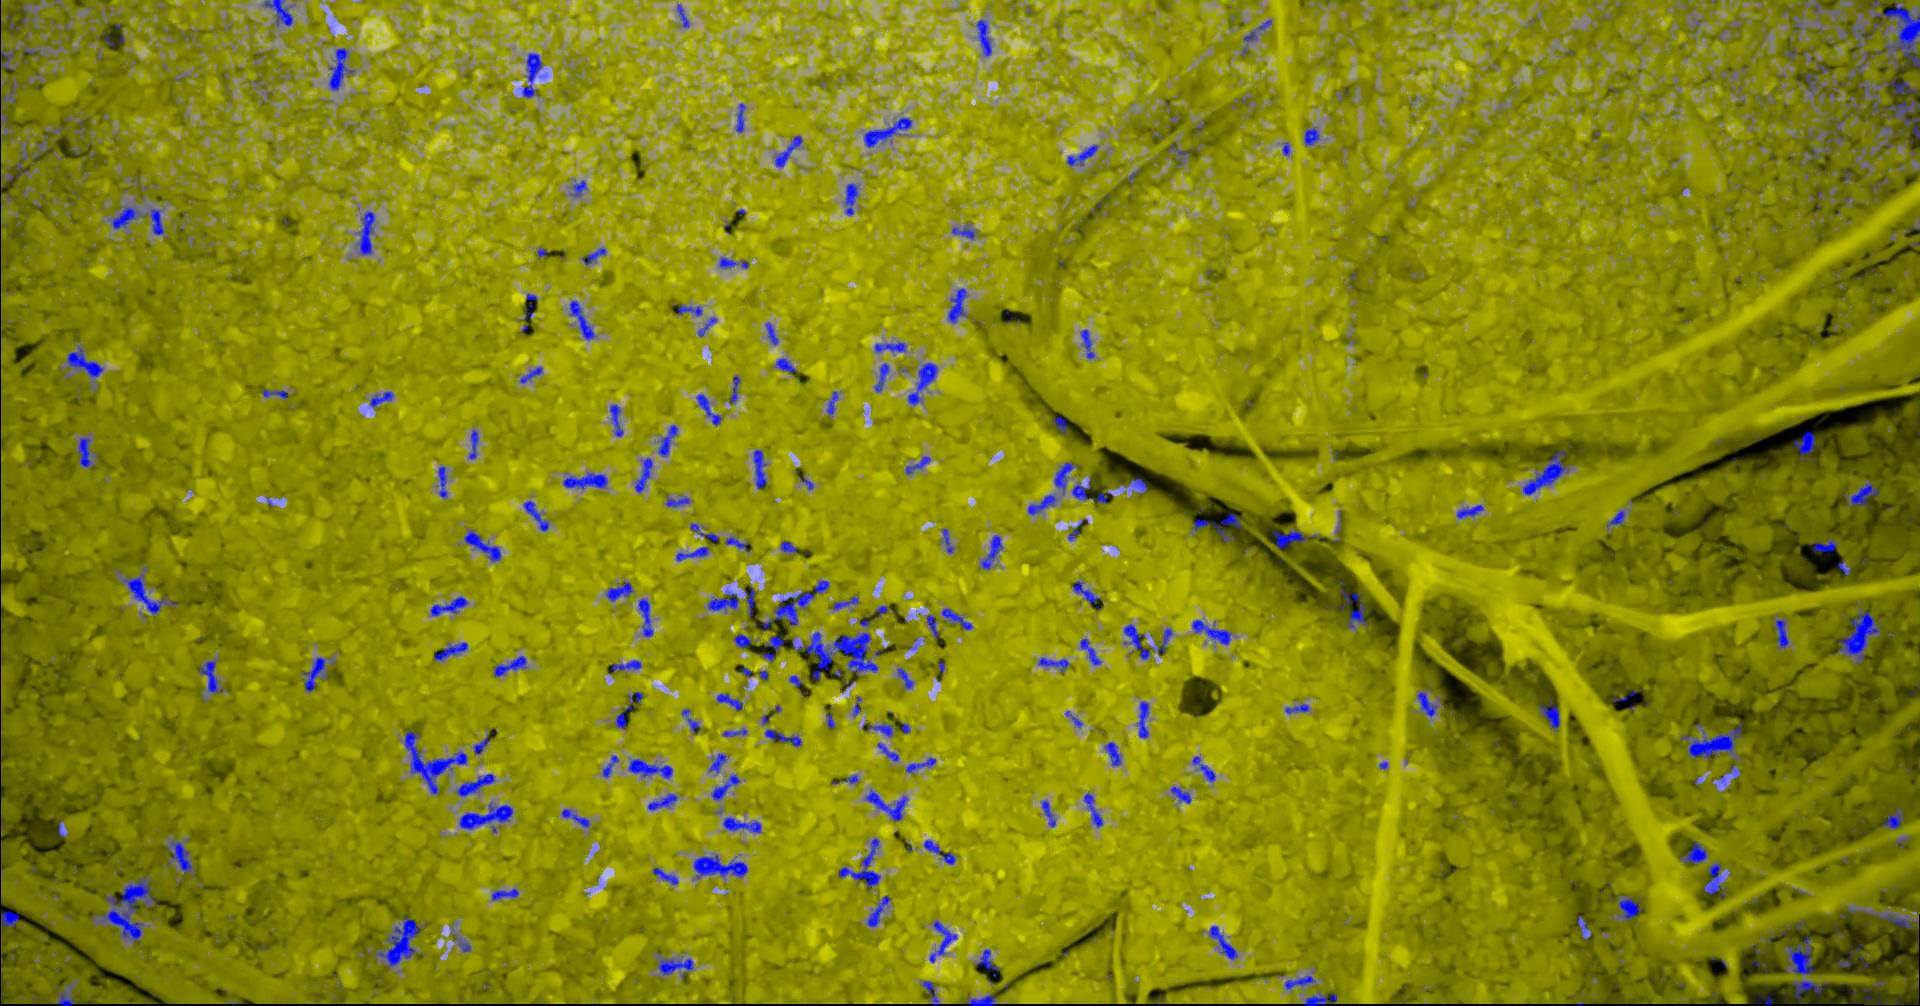ant: (773, 579, 828, 625), (1680, 723, 1742, 760), (1837, 611, 1881, 663), (1523, 448, 1570, 495), (375, 917, 420, 965), (121, 574, 177, 614), (838, 837, 880, 888), (1870, 99, 1919, 137), (458, 801, 512, 832), (1848, 907, 1919, 929), (1192, 512, 1241, 542), (863, 117, 910, 147), (692, 854, 747, 879), (1338, 580, 1368, 627), (863, 789, 907, 821), (907, 362, 937, 405), (1783, 935, 1815, 976), (0, 909, 20, 972), (66, 345, 102, 379), (463, 530, 500, 561), (328, 47, 354, 90), (197, 657, 227, 694), (930, 920, 956, 962), (568, 300, 596, 339), (1070, 478, 1112, 503), (1269, 528, 1321, 549), (301, 655, 330, 691), (615, 691, 643, 728), (166, 840, 196, 874), (1208, 925, 1237, 959), (1191, 619, 1230, 644), (1123, 622, 1149, 659), (521, 52, 542, 97), (627, 758, 672, 779), (456, 774, 495, 796), (775, 135, 803, 166), (1703, 862, 1727, 898), (696, 392, 721, 426), (1846, 480, 1879, 506), (1072, 580, 1100, 610), (1609, 895, 1642, 920), (1832, 942, 1865, 967), (357, 210, 375, 254), (710, 774, 739, 800), (262, 0, 292, 25), (523, 500, 549, 531), (980, 533, 1002, 569), (923, 840, 955, 864), (657, 956, 693, 977), (866, 895, 890, 926), (1053, 461, 1076, 493), (974, 949, 999, 977), (430, 596, 467, 615), (1065, 144, 1097, 165), (1538, 699, 1559, 730), (947, 287, 966, 323), (563, 473, 607, 488), (1083, 791, 1102, 827), (723, 815, 761, 833), (1790, 981, 1829, 998), (1854, 50, 1882, 74), (493, 655, 526, 676), (764, 728, 801, 746), (433, 641, 467, 661), (657, 424, 677, 456), (759, 634, 783, 661), (1191, 754, 1215, 781), (110, 206, 138, 229), (1792, 431, 1815, 459), (1679, 840, 1707, 862), (77, 437, 98, 467), (707, 589, 738, 610), (941, 608, 971, 629), (634, 457, 651, 492), (1079, 638, 1101, 666), (1027, 494, 1057, 514), (1886, 75, 1916, 94), (637, 598, 653, 636), (604, 580, 632, 601), (752, 448, 766, 488), (975, 19, 990, 55), (1416, 690, 1436, 716), (690, 522, 717, 541), (561, 808, 589, 827), (1881, 807, 1903, 829), (648, 793, 677, 810), (1152, 627, 1172, 653), (1037, 655, 1068, 672), (1167, 142, 1190, 164), (676, 546, 709, 560), (921, 981, 940, 1005), (681, 708, 698, 733), (1103, 741, 1121, 766), (1302, 992, 1337, 1005), (1079, 329, 1095, 358), (874, 362, 889, 391), (905, 757, 935, 772), (844, 183, 858, 215), (610, 404, 623, 436), (1284, 976, 1316, 989), (1845, 23, 1872, 39), (1067, 520, 1087, 541), (56, 982, 75, 1005), (582, 246, 606, 264), (905, 456, 930, 474), (1773, 619, 1788, 647), (861, 721, 891, 735), (1137, 701, 1148, 738), (716, 694, 742, 710), (651, 868, 677, 884), (6, 161, 28, 180), (519, 366, 542, 384), (1606, 511, 1624, 533), (601, 754, 618, 777), (522, 293, 537, 319), (725, 536, 750, 551), (1812, 537, 1837, 553), (877, 742, 898, 761), (709, 753, 728, 774), (897, 667, 914, 688), (149, 207, 163, 234), (1457, 504, 1483, 518), (1041, 800, 1055, 827), (1576, 915, 1591, 939), (697, 318, 716, 337), (874, 340, 905, 352), (610, 659, 641, 671), (1799, 71, 1817, 91), (1170, 786, 1191, 803), (832, 596, 857, 610), (1611, 688, 1637, 702), (717, 257, 748, 268), (370, 391, 392, 406), (966, 993, 997, 1005), (491, 888, 518, 901), (676, 3, 690, 27), (437, 465, 447, 498), (472, 734, 489, 754), (775, 357, 796, 372), (676, 304, 701, 316), (1051, 415, 1068, 434), (0, 83, 15, 103), (744, 586, 754, 616), (665, 494, 690, 507), (926, 614, 938, 638), (764, 323, 778, 344), (735, 103, 745, 132), (1303, 127, 1319, 145), (729, 375, 739, 403), (951, 226, 975, 238), (941, 528, 952, 553), (1129, 478, 1147, 493), (825, 391, 837, 414), (469, 429, 477, 459), (262, 387, 287, 398), (1284, 702, 1309, 713), (0, 50, 13, 69), (778, 540, 797, 553), (832, 774, 858, 782), (570, 180, 585, 196), (733, 634, 750, 647), (723, 727, 747, 735), (1836, 561, 1850, 575), (1755, 995, 1771, 1005), (0, 605, 1, 661)
